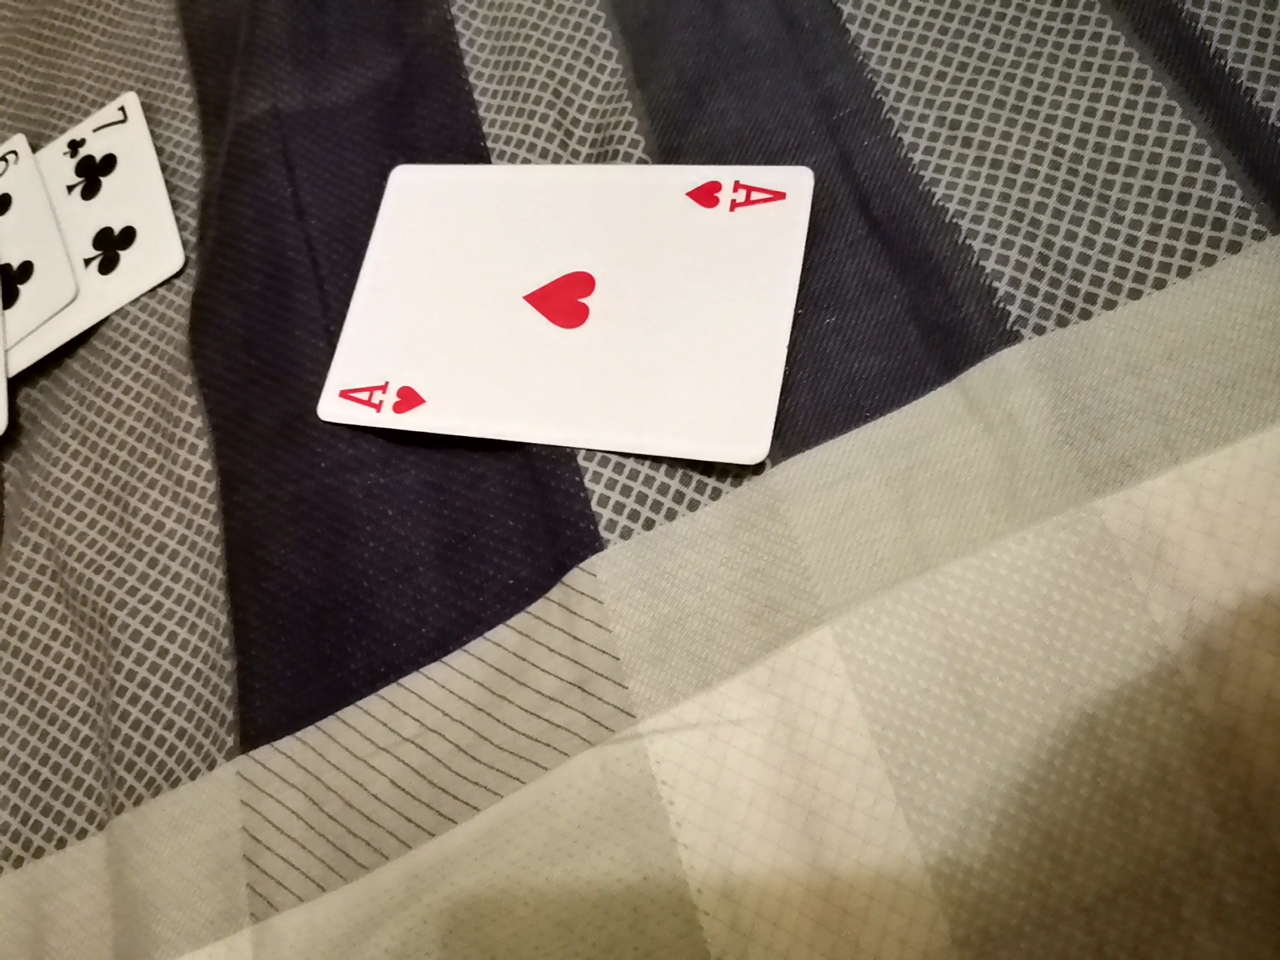hx a: (303, 134, 795, 465)
